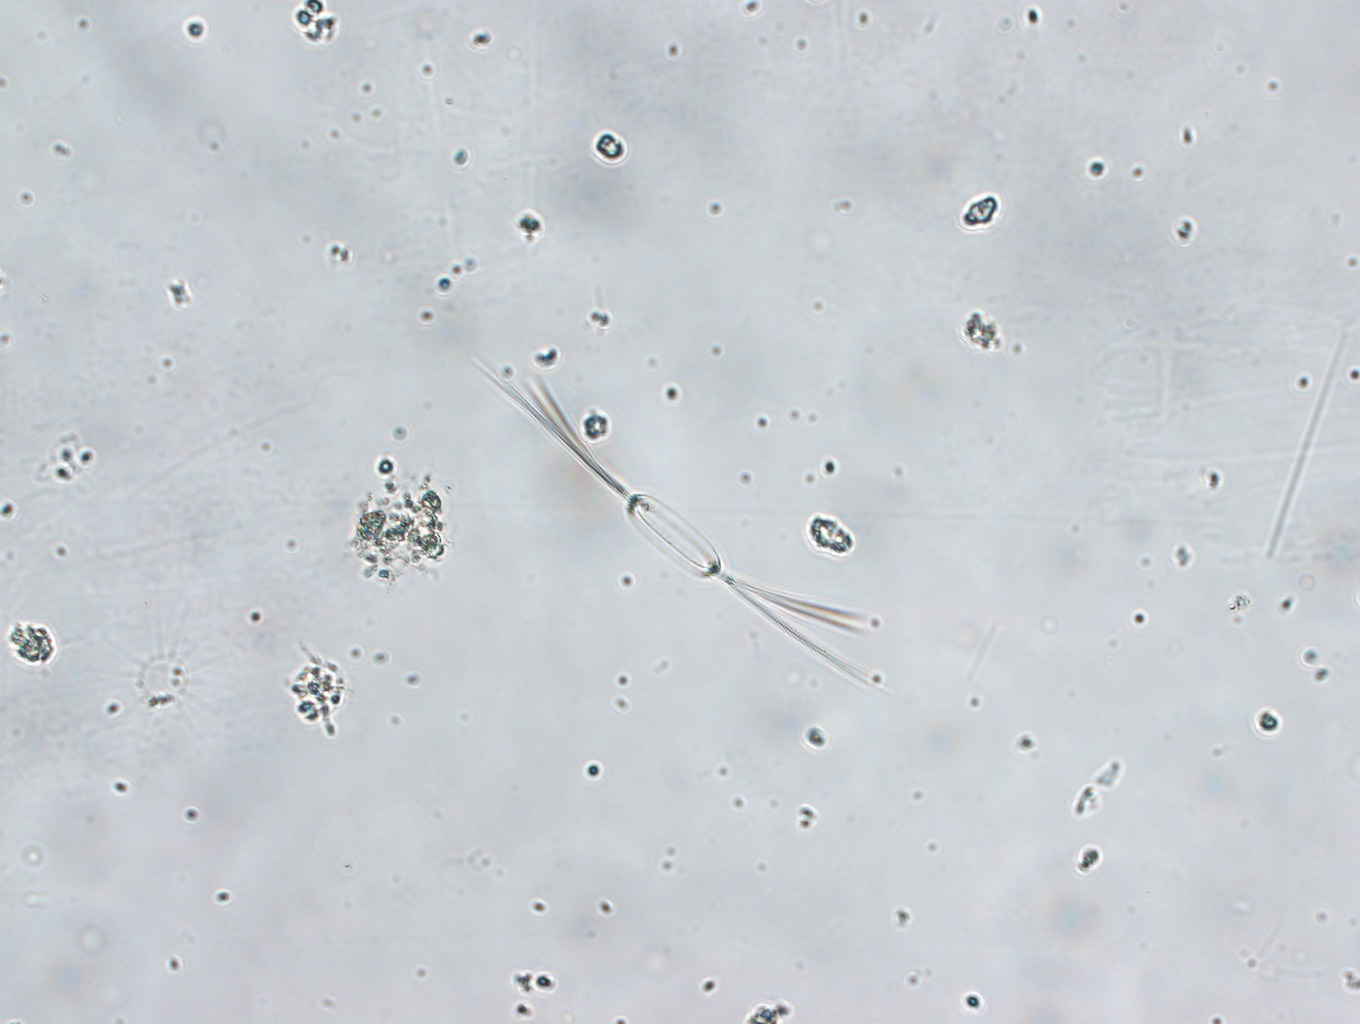chaetoceros: (463, 343, 879, 689)
